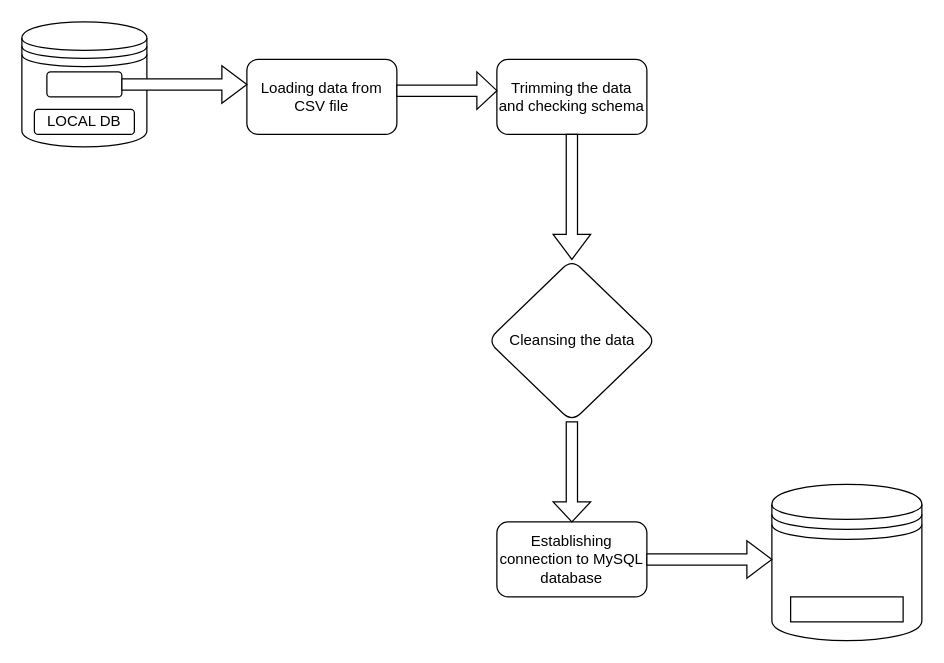
This 944x663 diagram has some shape labels left out. The centre of each missing label's shape, as x and y in pixels:
CSV FILE: point (84, 84)
MYSQL: point (846, 609)
